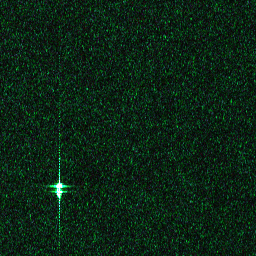ship: (55, 182, 64, 200)
